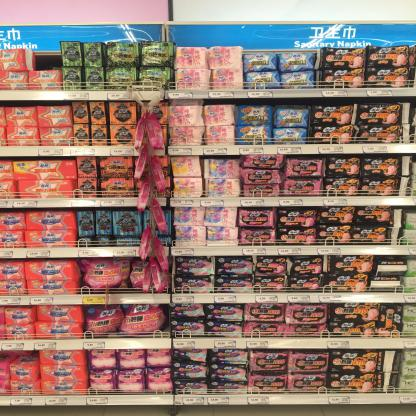Void: (32, 49, 64, 69)
